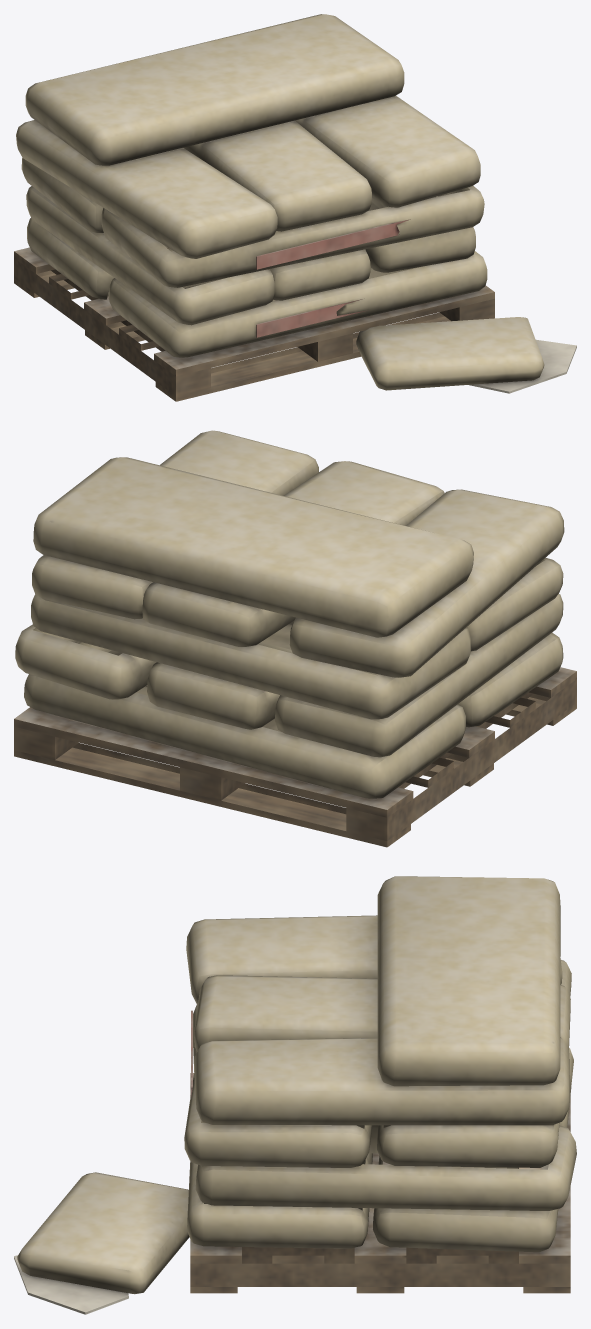
File: pallet_sacks.fbx
3 renders of one model, top to bottom at view 1: azimuth 30°, elevation 25°; view 2: azimuth 150°, elevation 25°; view 3: azimuth 270°, elevation 25°, orthographic. The views are drawn at different scales.
Parts seen in each view (by area): view 1: Body; view 2: Body; view 3: Body.
Boxes of the visible parts, x1=… form: Body: x1=14, y1=14, x2=576, y2=401; Body: x1=14, y1=430, x2=576, y2=847; Body: x1=14, y1=876, x2=576, y2=1314.
Bounding box in the file's own units: 5.75 × 3.12 × 6.51.
Materials: 1 (1 with a texture image).
